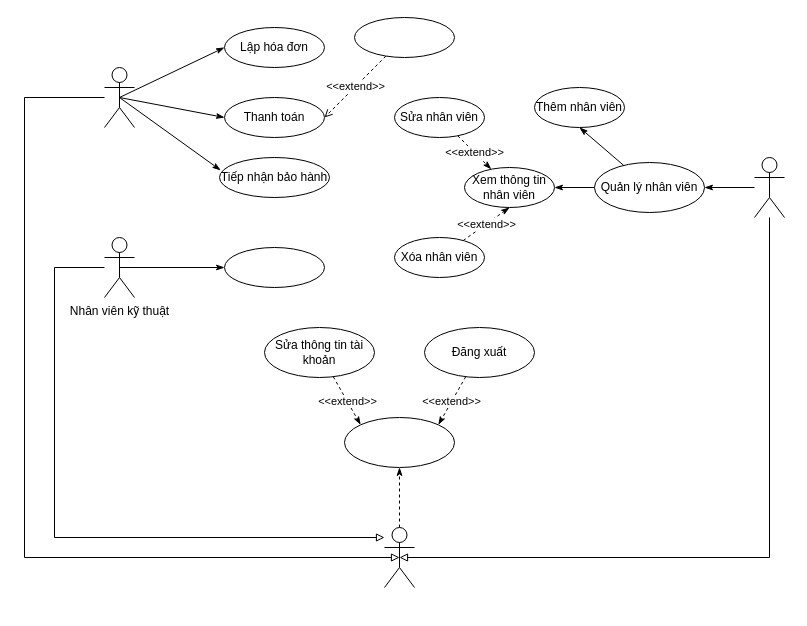
This 807x626 diagram has some shape labels left out. Here are the shapes that lost their labels. From the top down, the centre of each, then its label:
At (x=404, y=37): "Thêm khuyến mãi".
At (x=119, y=97): "Nhân viên hành chính".
At (x=769, y=187): "Quản lý".
At (x=274, y=267): "Xử lý bảo hành".
At (x=399, y=442): "Đăng nhập".
At (x=399, y=557): "Nhân viên".
